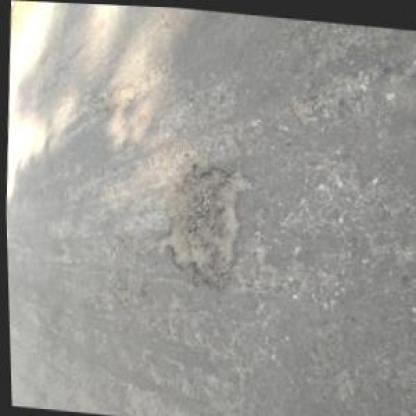pothole: (152, 150, 252, 294), (287, 89, 318, 126)
